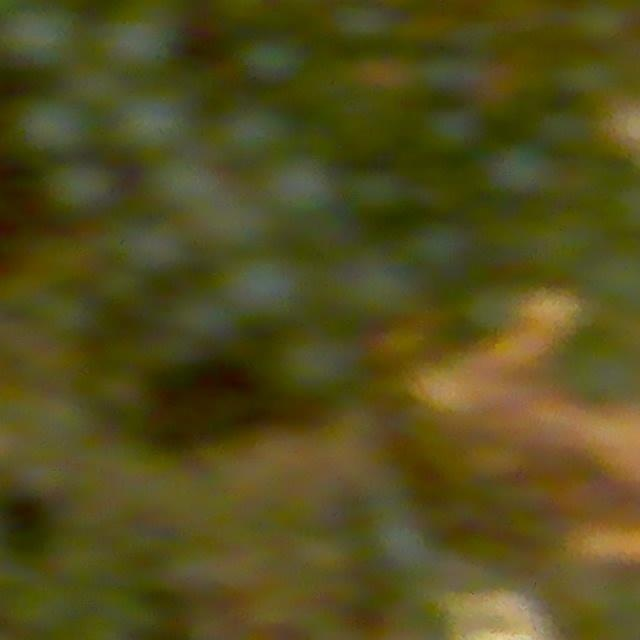SeaGrape: (105, 83, 193, 168), (7, 92, 95, 168), (93, 3, 177, 79), (144, 153, 223, 227), (209, 112, 290, 183), (6, 0, 80, 76), (213, 260, 297, 325), (112, 215, 190, 277), (264, 157, 335, 225), (206, 183, 271, 251), (48, 163, 116, 215)
